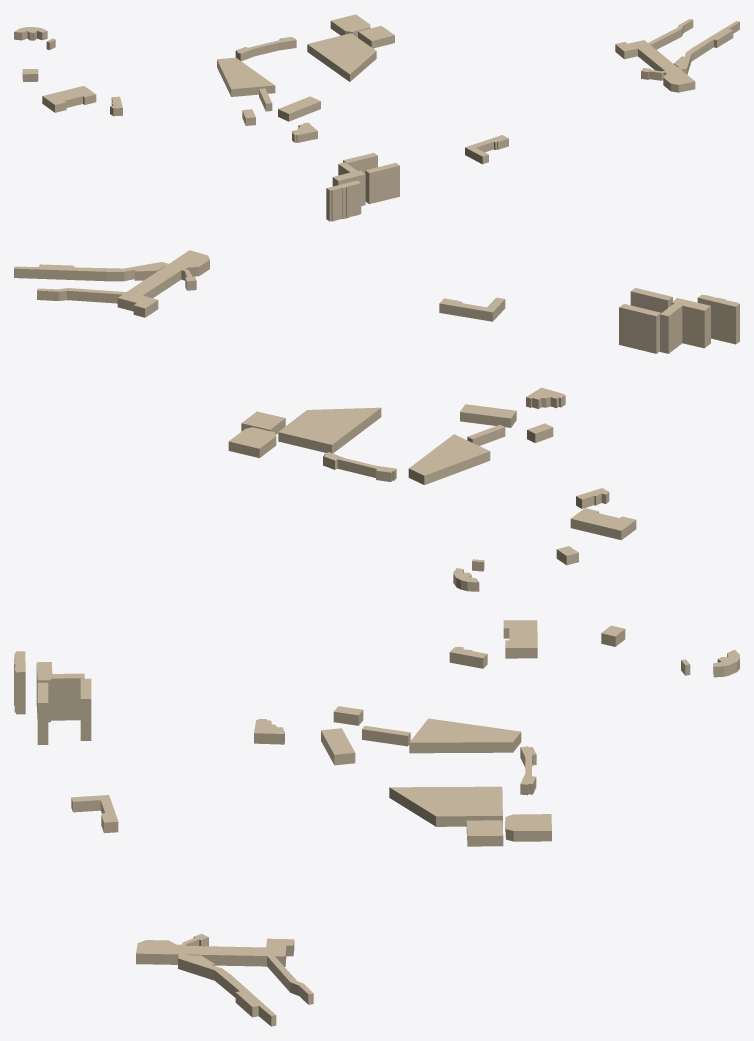
Rendered from 12_2-estimated-coarse.glb.
The picture shows the model from 3 angles, top to bottom: view 1: azimuth 30°, elevation 25°; view 2: azimuth 150°, elevation 25°; view 3: azimuth 270°, elevation 25°; orthographic projection. The views are drawn at different scales.
Size of the model in its own units: 969 by 48 by 752.
